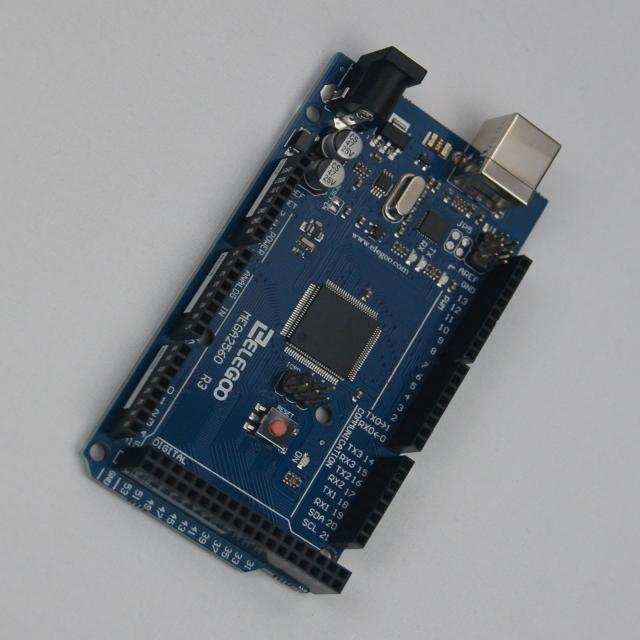Arduino Mega 2560 -Blue-: (85, 48, 561, 594)
